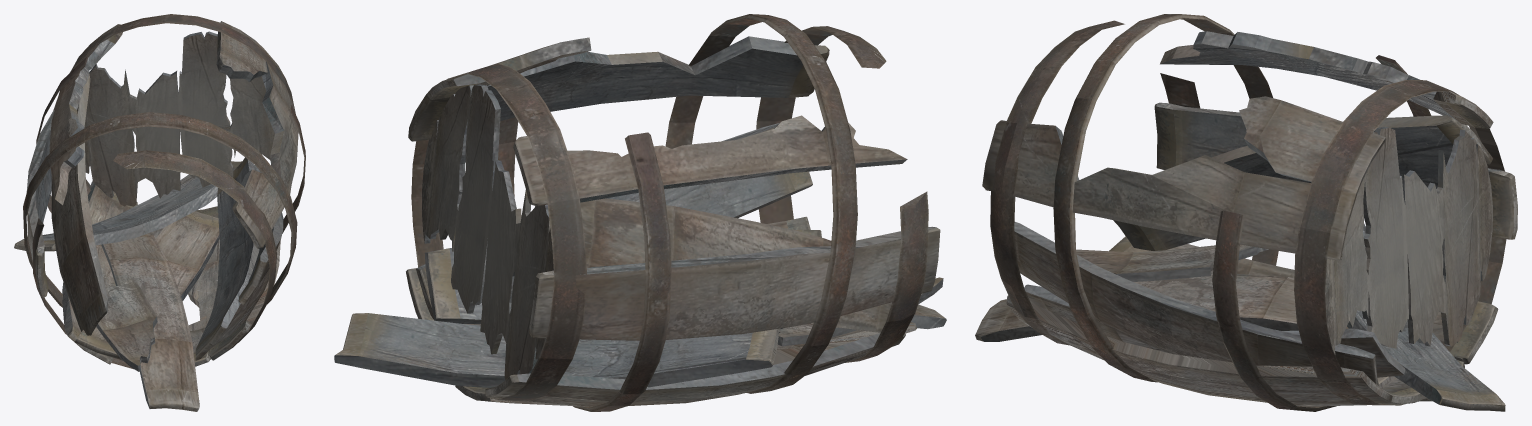
Rendered from Barrel2.obj.
3 renders of one model, left to right at view 1: azimuth 30°, elevation 25°; view 2: azimuth 150°, elevation 25°; view 3: azimuth 270°, elevation 25°, orthographic. The views are drawn at different scales.
Visible parts, largest first — view 1: group_005; view 2: group_005; view 3: group_005.
Part boxes in pixels (x1=…): group_005: x1=14, y1=14, x2=305, y2=411; group_005: x1=334, y1=14, x2=946, y2=411; group_005: x1=975, y1=14, x2=1517, y2=411.
Bounding box in the file's own units: 1.22 × 0.8981 × 1.32.
Materials: 1 (1 with a texture image).
